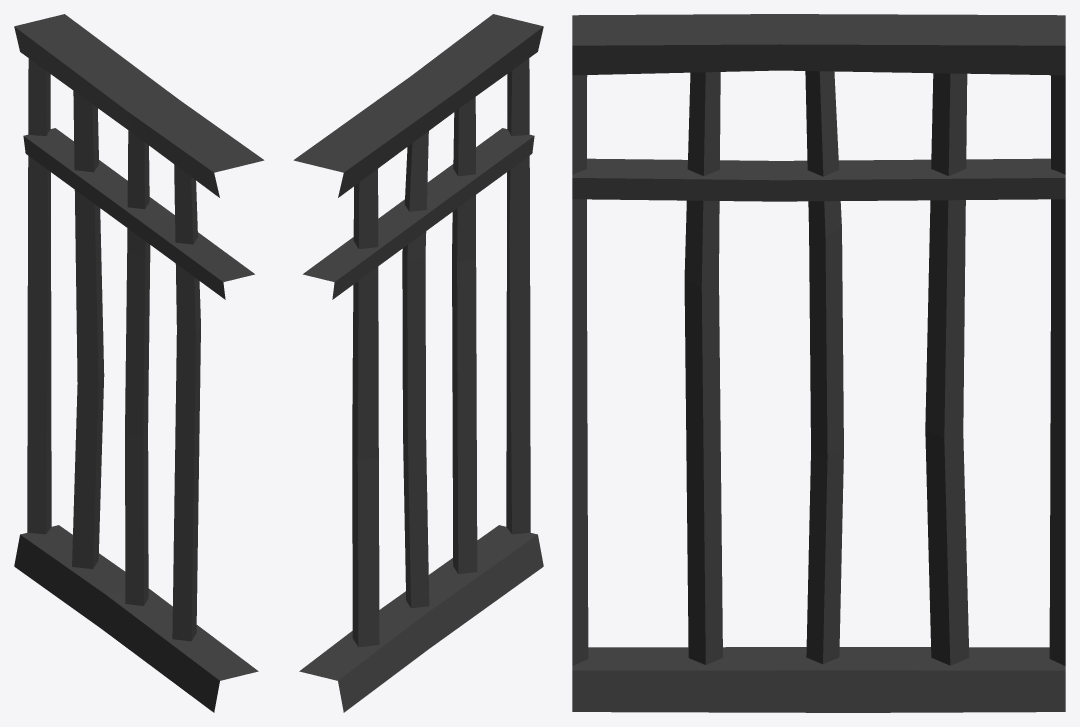
Rendered from Prison_Half_Wall.gltf.
3 views of the same model, side by side, from view 1: azimuth 30°, elevation 25°; view 2: azimuth 150°, elevation 25°; view 3: azimuth 270°, elevation 25° (orthographic). The views are drawn at different scales.
Visible parts, largest first — view 1: Prison_Half_Wall2; view 2: Prison_Half_Wall2; view 3: Prison_Half_Wall2.
Boxes of the visible parts, box(x1,y1,x2,y2) form: Prison_Half_Wall2: box(14, 14, 264, 712); Prison_Half_Wall2: box(293, 14, 543, 712); Prison_Half_Wall2: box(572, 14, 1065, 712).
Size of the model in its own units: 0.0783 by 0.745 by 0.5.
Materials: 1 (1 with a texture image).
